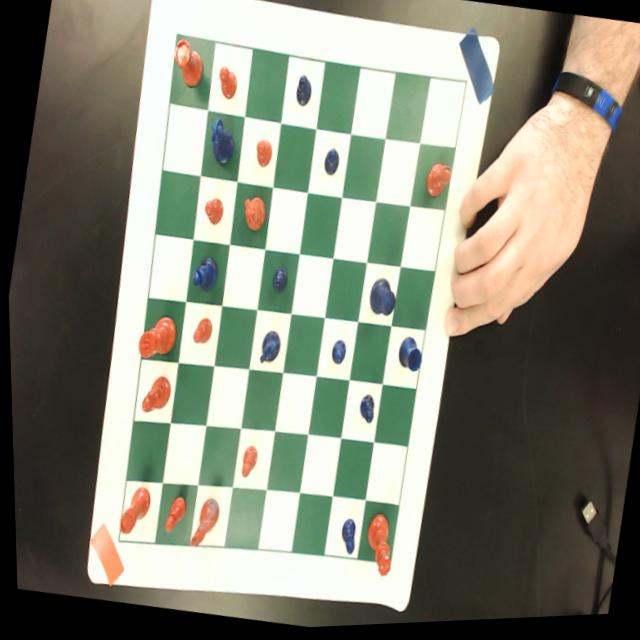B: (187, 255, 218, 296)
K: (364, 278, 397, 322)
N: (202, 114, 239, 172), (253, 328, 282, 372)
P: (333, 519, 356, 559), (292, 75, 314, 112), (353, 396, 375, 428), (320, 149, 340, 181), (267, 268, 287, 297), (326, 341, 346, 369)
R: (392, 337, 423, 378)
b: (135, 370, 171, 420), (420, 160, 457, 207)
k: (133, 311, 178, 365)
n: (184, 496, 220, 554), (236, 193, 268, 238)
p: (158, 494, 186, 538), (213, 65, 240, 105), (200, 196, 225, 229), (235, 445, 257, 482), (188, 317, 213, 349), (251, 140, 274, 173)
q: (356, 514, 396, 583)
r: (167, 33, 209, 92), (113, 482, 150, 540)
